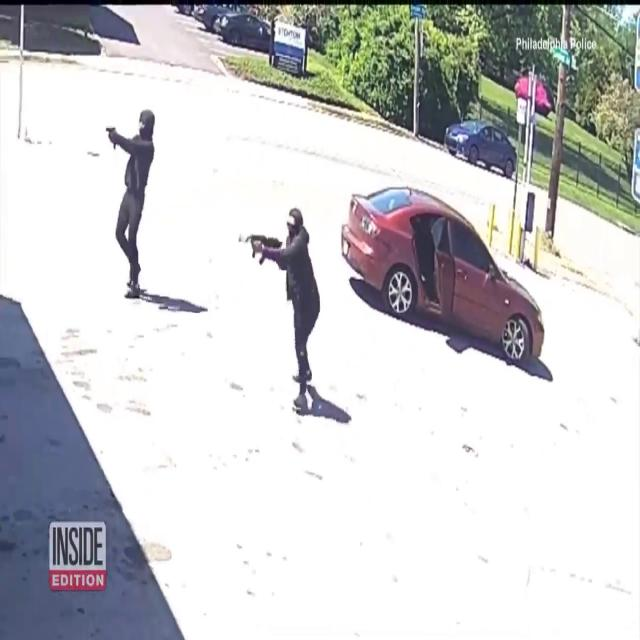penembakan: (234, 202, 320, 420), (103, 102, 158, 312)
